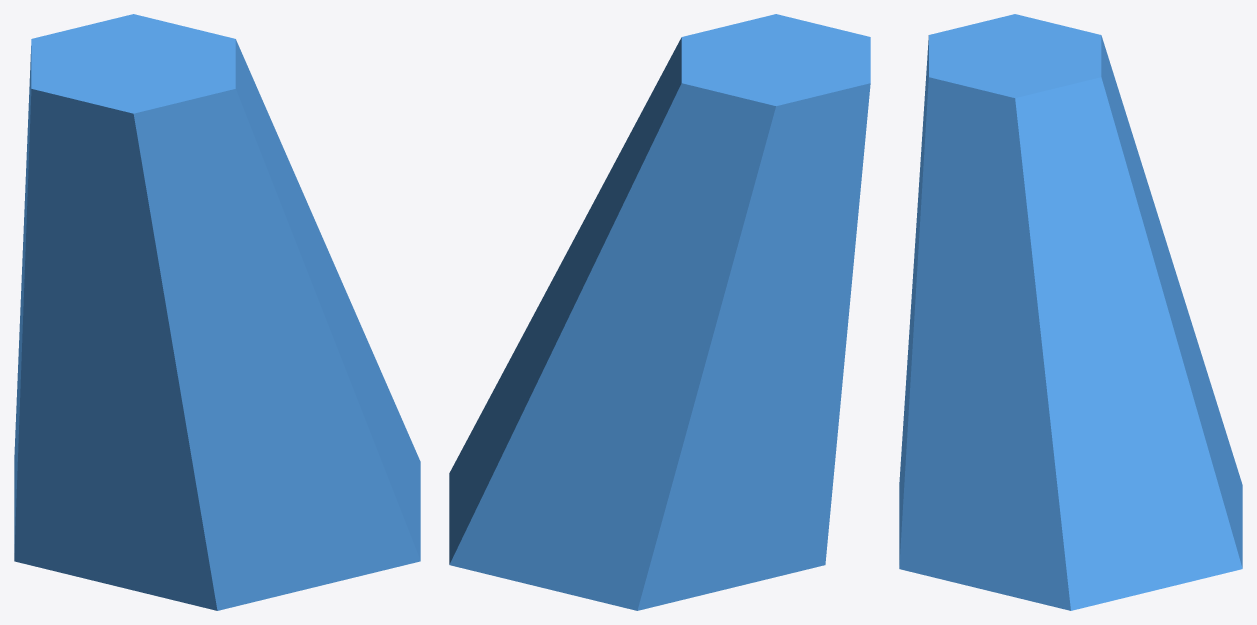
The model's file is rock2.fbx.
3 renders of one model, left to right at view 1: azimuth 30°, elevation 25°; view 2: azimuth 150°, elevation 25°; view 3: azimuth 270°, elevation 25°, orthographic. The views are drawn at different scales.
Parts seen in each view (by area): view 1: Cylinder.764; view 2: Cylinder.764; view 3: Cylinder.764.
Part boxes in pixels (left/top/right/bottom): Cylinder.764: left=14, top=14, right=420, bottom=610; Cylinder.764: left=449, top=14, right=870, bottom=610; Cylinder.764: left=899, top=14, right=1242, bottom=610.
Size of the model in its own units: 208 by 235 by 173.
